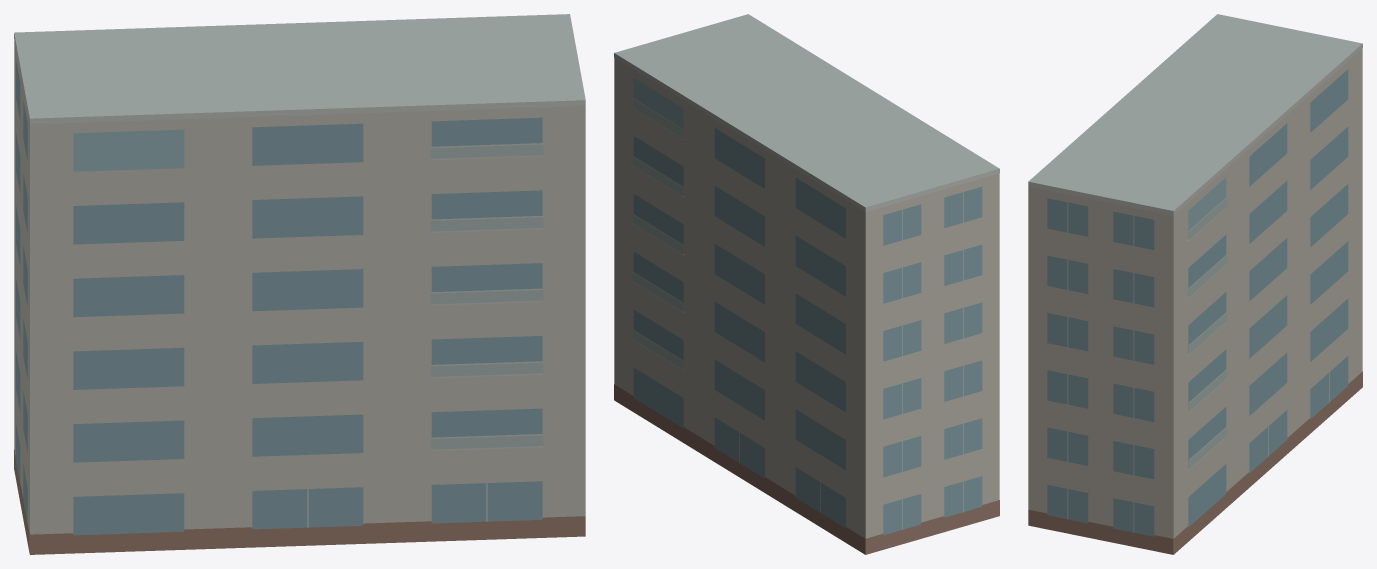
File: survey-upis-32963958.glb
The picture shows the model from 3 angles, left to right: view 1: azimuth 30°, elevation 25°; view 2: azimuth 150°, elevation 25°; view 3: azimuth 270°, elevation 25°; orthographic projection. The views are drawn at different scales.
Visible parts, largest first — view 1: survey-upis-32963958.tmp; view 2: survey-upis-32963958.tmp; view 3: survey-upis-32963958.tmp.
Boxes of the visible parts, x1=… form: survey-upis-32963958.tmp: x1=14, y1=14, x2=585, y2=554; survey-upis-32963958.tmp: x1=614, y1=14, x2=999, y2=554; survey-upis-32963958.tmp: x1=1028, y1=14, x2=1362, y2=554.
Size of the model in its own units: 22.5 by 18.3 by 16.15.
